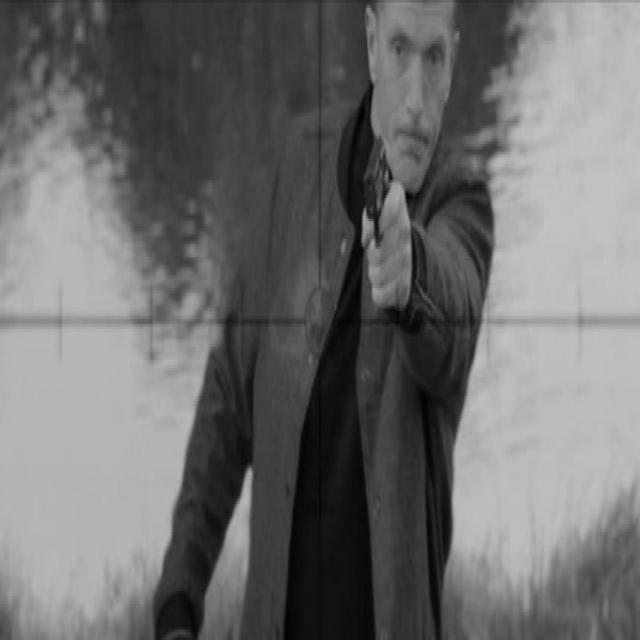weapons: (346, 77, 414, 307)
